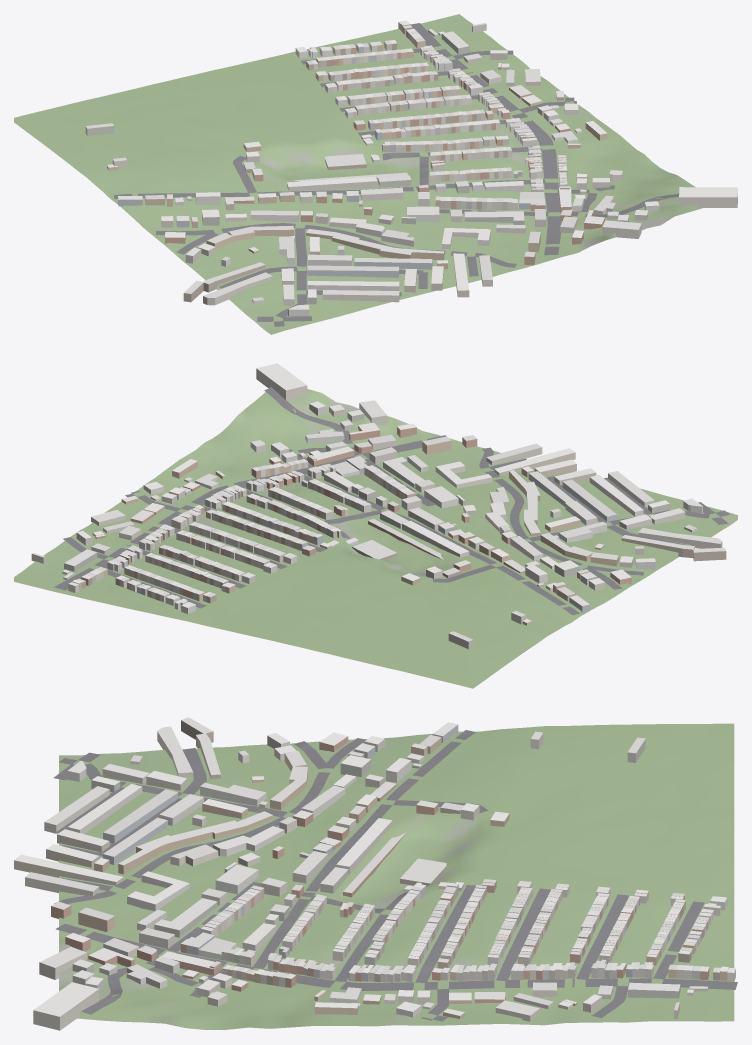
3 views of the same model, one above another, from view 1: azimuth 30°, elevation 25°; view 2: azimuth 150°, elevation 25°; view 3: azimuth 270°, elevation 25° (orthographic). The views are drawn at different scales.
Parts seen in each view (by area): view 1: prim0, prim1, prim2; view 2: prim0, prim1, prim2; view 3: prim0, prim1, prim2.
Boxes of the visible parts, left/top/right/bottom form: prim0: left=14, top=14, right=702, bottom=334; prim1: left=85, top=20, right=737, bottom=316; prim2: left=114, top=23, right=679, bottom=326; prim0: left=14, top=387, right=737, bottom=688; prim1: left=31, top=363, right=726, bottom=649; prim2: left=54, top=387, right=729, bottom=615; prim0: left=59, top=723, right=734, bottom=1029; prim1: left=14, top=717, right=735, bottom=1030; prim2: left=53, top=730, right=737, bottom=1021.
Bounding box in the file's own units: 581 × 39.55 × 549.
